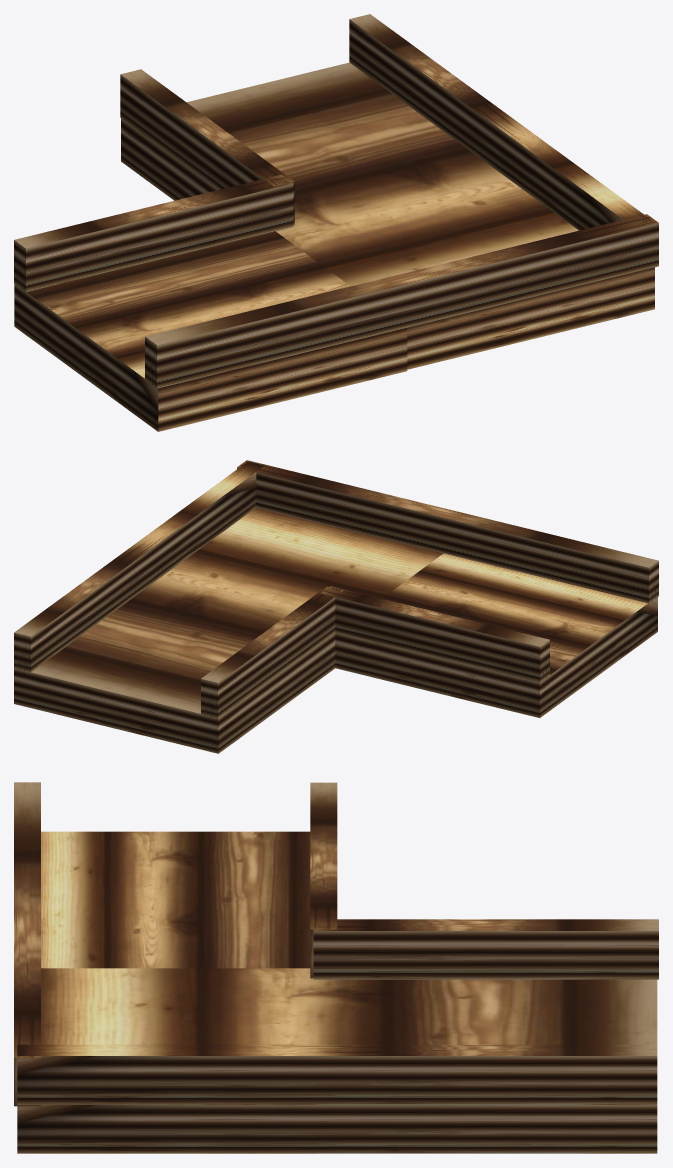
The model's file is E - Sharp R.obj.
3 renders of one model, top to bottom at view 1: azimuth 30°, elevation 25°; view 2: azimuth 150°, elevation 25°; view 3: azimuth 270°, elevation 25°, orthographic. The views are drawn at different scales.
Visible parts, largest first — view 1: polySurface15; view 2: polySurface15; view 3: polySurface15.
Part boxes in pixels (box(x1,y1,x2,y2)): polySurface15: box(14, 14, 658, 431); polySurface15: box(14, 460, 658, 753); polySurface15: box(14, 782, 658, 1153).
Bounding box in the file's own units: 846 × 140 × 838.
